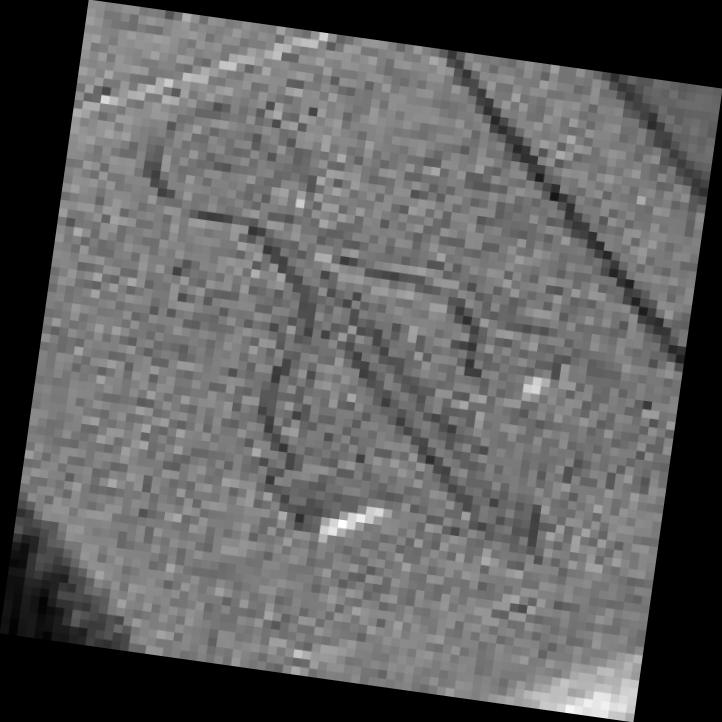usb: (7, 0, 722, 722)
